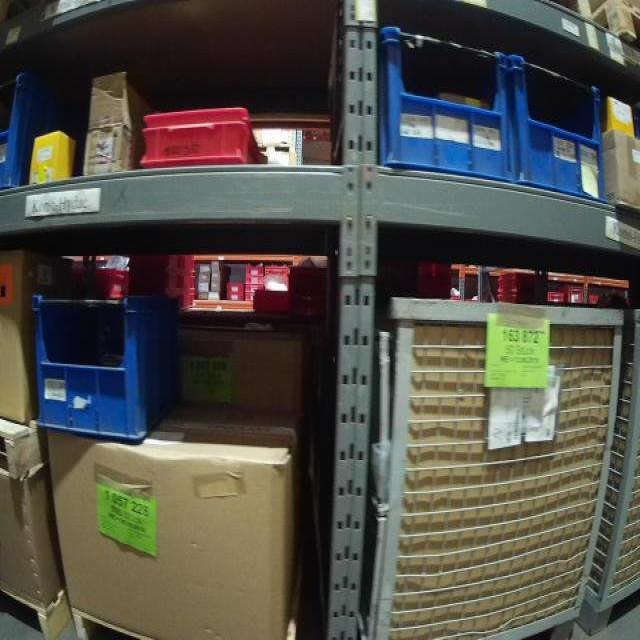pallet: (0, 588, 71, 640), (0, 417, 44, 483), (592, 0, 640, 43), (69, 612, 147, 637)
small_load_carrier: (372, 18, 514, 190), (30, 289, 179, 442), (515, 52, 613, 207), (0, 73, 88, 196), (137, 92, 271, 172), (127, 254, 200, 272), (500, 268, 548, 292), (134, 269, 198, 283), (172, 288, 202, 311), (499, 295, 543, 309), (563, 286, 588, 307), (544, 287, 567, 304), (245, 283, 264, 294), (246, 265, 265, 275), (227, 281, 244, 292), (225, 293, 244, 302), (246, 294, 264, 303), (245, 275, 265, 283)
stillage: (361, 278, 627, 639), (585, 292, 640, 622)
